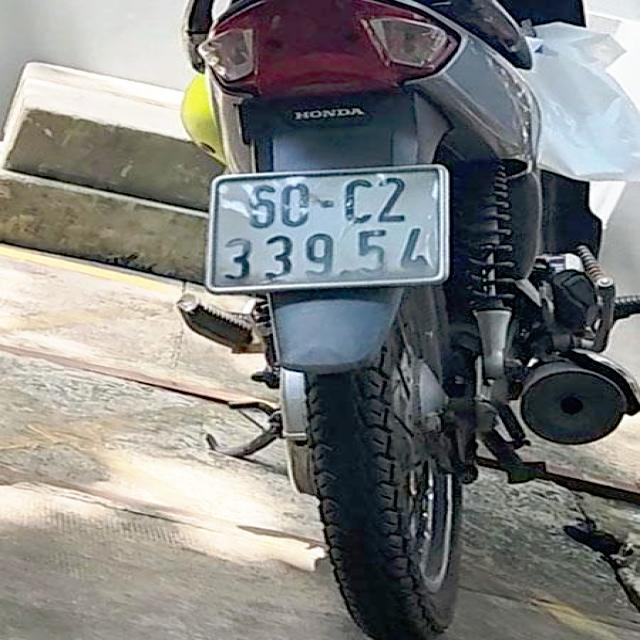license_plate: (214, 171, 447, 288)
